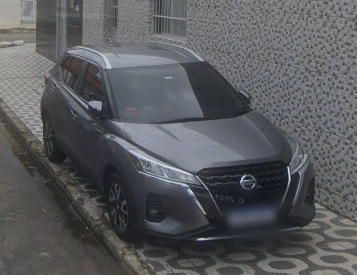car: (38, 36, 329, 255)
